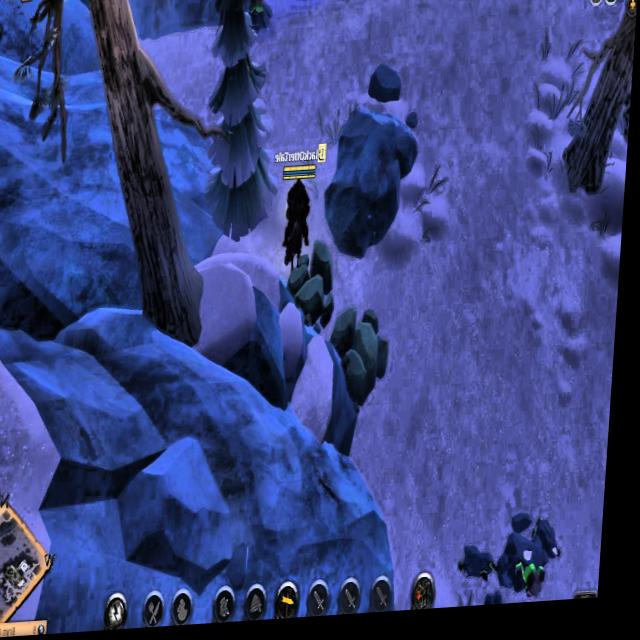sandstone: (333, 304, 398, 416), (284, 246, 344, 347), (330, 0, 376, 2)
tinore: (244, 0, 272, 36), (288, 0, 316, 6)
